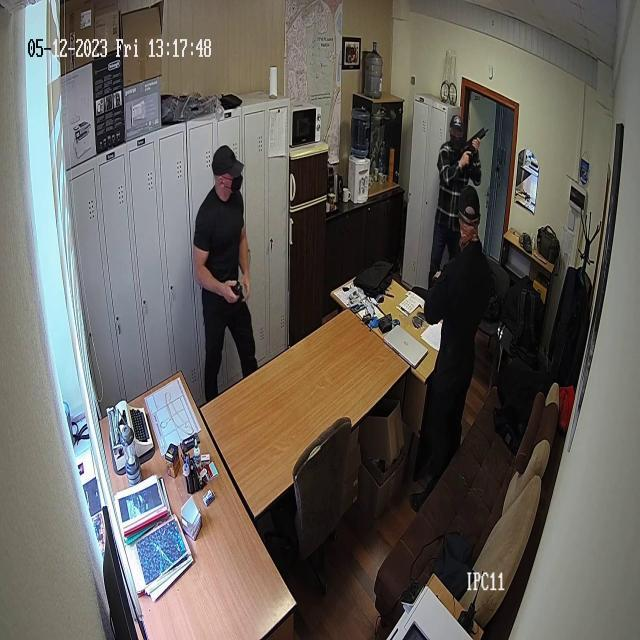pistol: (460, 126, 490, 168)
